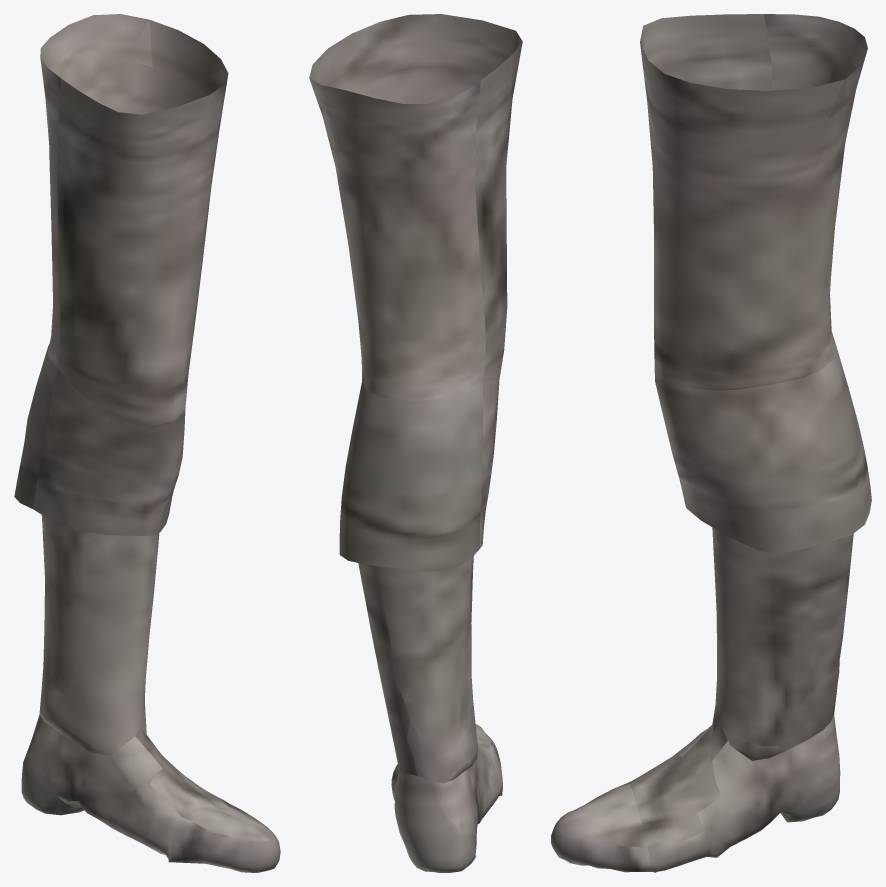
The model's file is soldierleftleg.fbx.
3 renders of one model, left to right at view 1: azimuth 30°, elevation 25°; view 2: azimuth 150°, elevation 25°; view 3: azimuth 270°, elevation 25°, orthographic. The views are drawn at different scales.
Visible parts, largest first — view 1: Wehrmacht_soldier:objlShin1; view 2: Wehrmacht_soldier:objlShin1; view 3: Wehrmacht_soldier:objlShin1.
Boxes of the visible parts, x1=… form: Wehrmacht_soldier:objlShin1: x1=14, y1=14, x2=280, y2=872; Wehrmacht_soldier:objlShin1: x1=309, y1=14, x2=522, y2=872; Wehrmacht_soldier:objlShin1: x1=551, y1=14, x2=871, y2=872.
Size of the model in its own units: 0.4397 by 2 by 0.7259.
